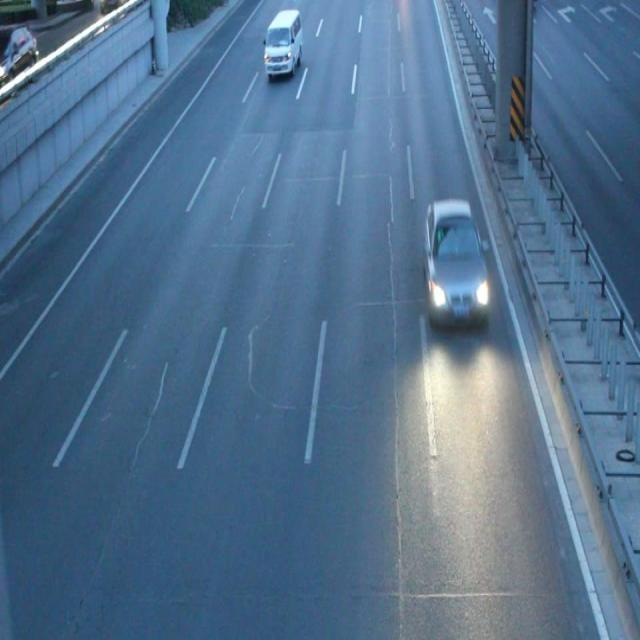car: (422, 198, 487, 326)
truck: (264, 8, 302, 77)
